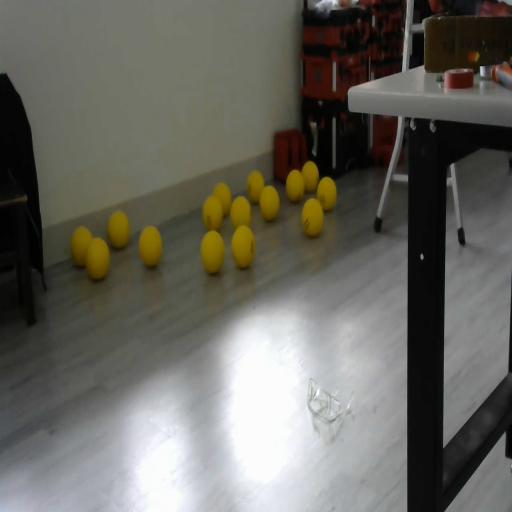FUEL: (199, 228, 226, 274), (84, 235, 111, 280), (230, 223, 256, 268), (138, 226, 163, 268), (106, 209, 130, 249), (201, 193, 224, 232), (301, 198, 323, 238), (259, 184, 280, 221), (316, 176, 337, 211), (230, 196, 251, 230), (246, 170, 266, 204), (285, 168, 305, 202), (301, 160, 319, 193)
